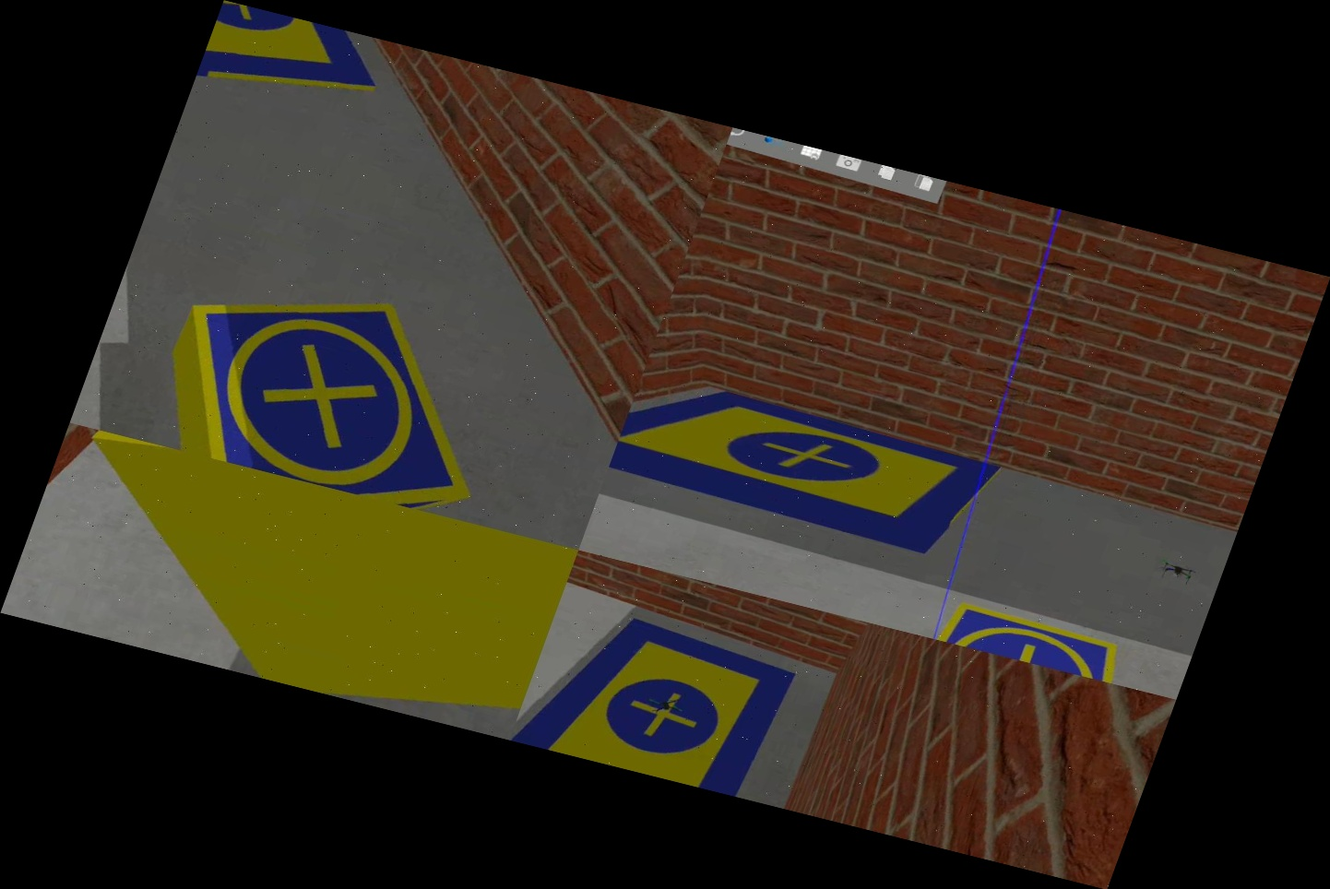large_base: (605, 362, 1004, 566), (509, 596, 800, 800), (192, 0, 397, 130)
small_base: (136, 248, 535, 522), (920, 592, 1153, 690)
